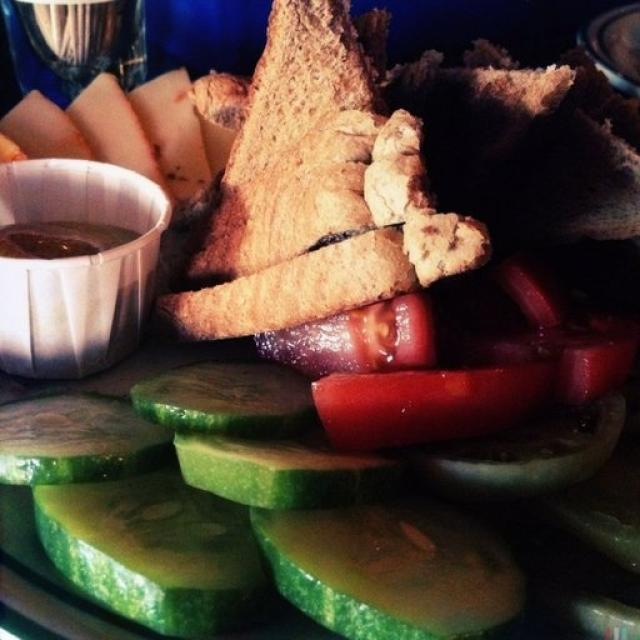cucumber: (245, 492, 530, 640), (26, 461, 264, 632), (169, 421, 395, 516), (1, 386, 165, 494), (134, 355, 319, 433)
